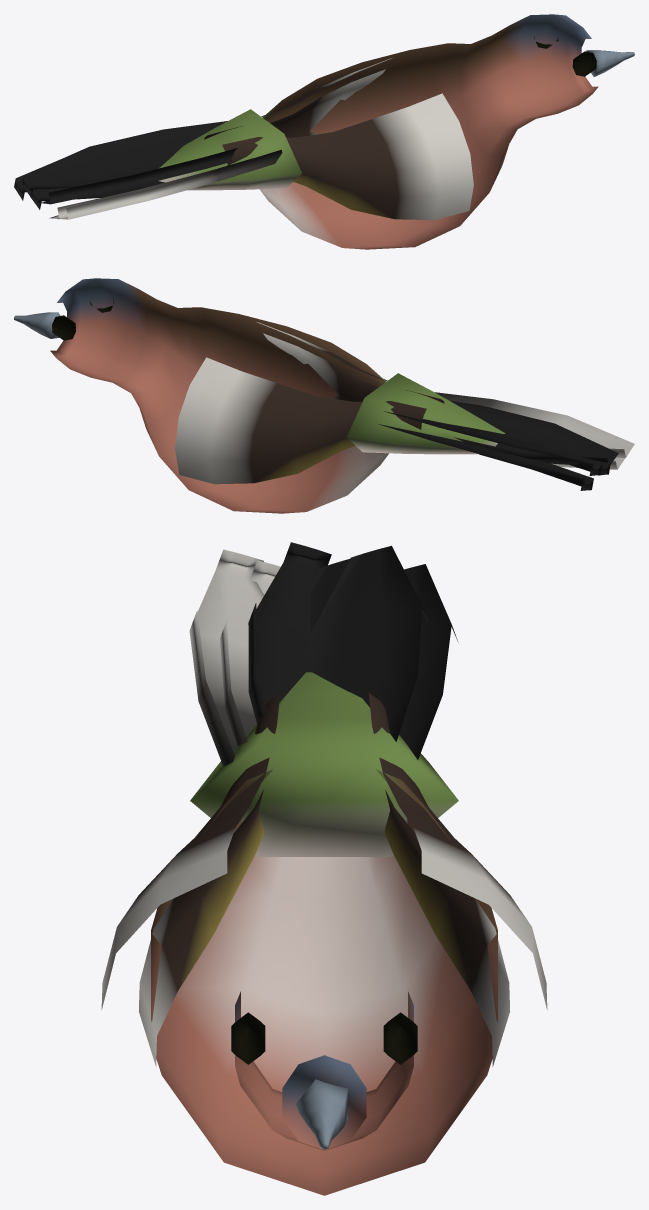
File: SM_Bird_chaffinch_closed_LOD1.glb
The picture shows the model from 3 angles, top to bottom: view 1: azimuth 30°, elevation 25°; view 2: azimuth 150°, elevation 25°; view 3: azimuth 270°, elevation 25°; orthographic projection. The views are drawn at different scales.
Visible parts, largest first — view 1: SM_Bird_chaffinch_closed_LOD1; view 2: SM_Bird_chaffinch_closed_LOD1; view 3: SM_Bird_chaffinch_closed_LOD1.
Boxes of the visible parts, bbox=[...] form: SM_Bird_chaffinch_closed_LOD1: bbox=[14, 14, 634, 249]; SM_Bird_chaffinch_closed_LOD1: bbox=[14, 278, 634, 513]; SM_Bird_chaffinch_closed_LOD1: bbox=[101, 542, 547, 1195].
Bounding box in the file's own units: 0.1715 × 0.0527 × 0.0557.
